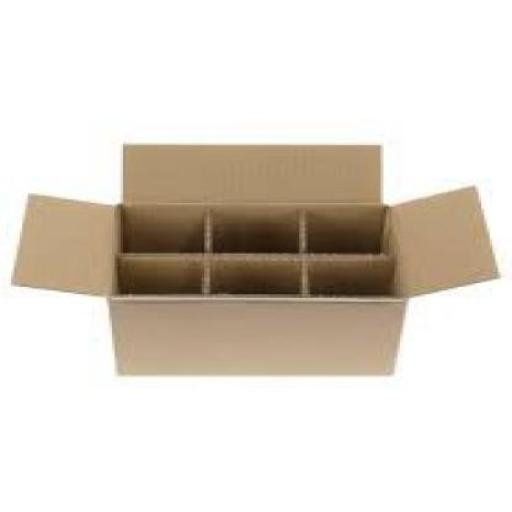cardboard: (8, 140, 495, 374)
